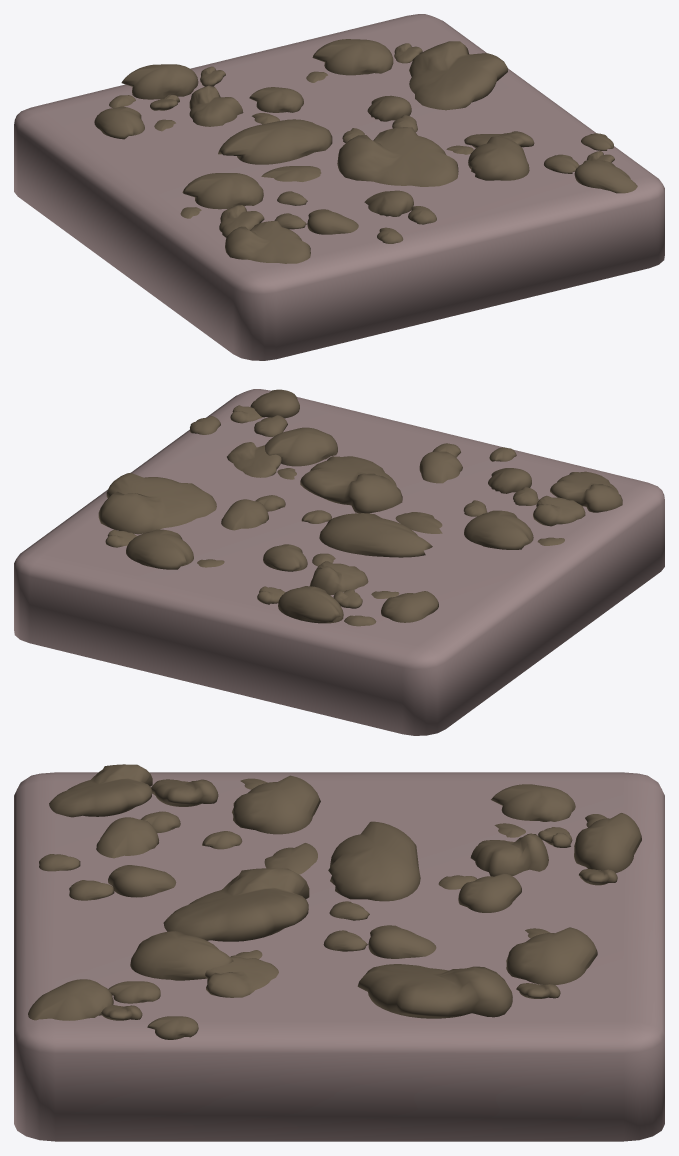
File: GrovelTile.fbx
3 renders of one model, top to bottom at view 1: azimuth 30°, elevation 25°; view 2: azimuth 150°, elevation 25°; view 3: azimuth 270°, elevation 25°, orthographic. The views are drawn at different scales.
Parts seen in each view (by area): view 1: GrovelGround, StoneGrovel3, StoneGrovel5, StoneGrovel4, StoneGrovel7, stonegrovel, stonegrovel2, StoneGrovel6; view 2: GrovelGround, StoneGrovel3, StoneGrovel5, StoneGrovel4, StoneGrovel7, stonegrovel, stonegrovel2, StoneGrovel6; view 3: GrovelGround, StoneGrovel3, StoneGrovel4, StoneGrovel7, StoneGrovel5, stonegrovel, stonegrovel2, StoneGrovel6.
Part boxes in pixels (x1,y1,x2,y2): GrovelGround: (14, 14, 664, 360); StoneGrovel3: (218, 95, 458, 186); StoneGrovel5: (306, 39, 507, 110); StoneGrovel4: (180, 173, 358, 263); StoneGrovel7: (94, 64, 303, 139); stonegrovel: (446, 131, 534, 180); stonegrovel2: (544, 133, 637, 193); StoneGrovel6: (364, 190, 436, 243); GrovelGround: (14, 389, 664, 735); StoneGrovel3: (221, 456, 442, 557); StoneGrovel5: (98, 473, 224, 569); StoneGrovel4: (463, 468, 622, 549); StoneGrovel7: (257, 544, 438, 626); stonegrovel: (227, 427, 337, 479); stonegrovel2: (190, 389, 299, 436); StoneGrovel6: (419, 443, 516, 483); GrovelGround: (14, 772, 664, 1141); StoneGrovel3: (163, 821, 436, 958); StoneGrovel4: (49, 764, 320, 858); StoneGrovel7: (438, 784, 641, 912); StoneGrovel5: (357, 927, 597, 1018); stonegrovel: (130, 931, 278, 997); stonegrovel2: (28, 979, 198, 1039); StoneGrovel6: (39, 854, 176, 900).
Size of the model in its own units: 1 by 0.2297 by 1.
